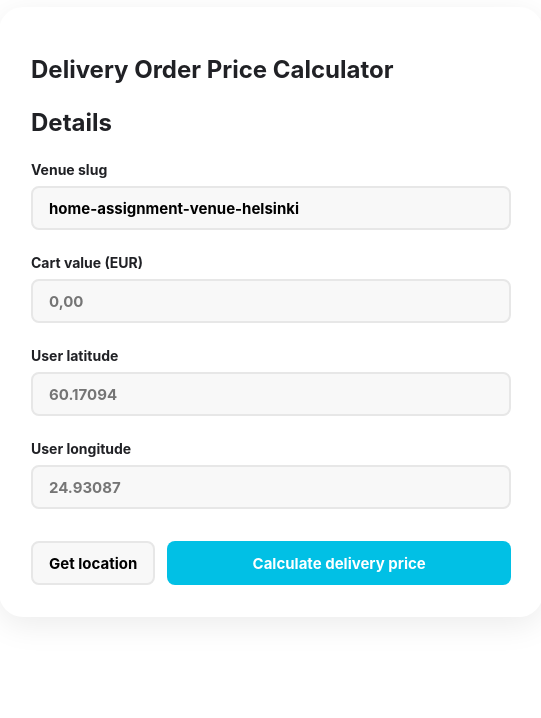
DeliveryCalculator › formats currency with comma separator
The width and height of the screenshot is (541, 718).
Type "10,00" into the field with test id "cartValue" at point(271, 301), box [31,279,511,323]
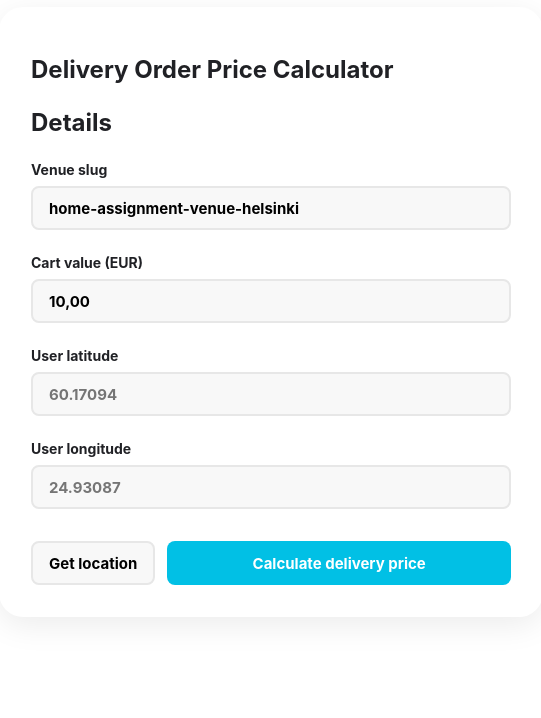
Type "60.1699" into the number field with test id "userLatitude" at point(271, 394), box [31,372,511,416]
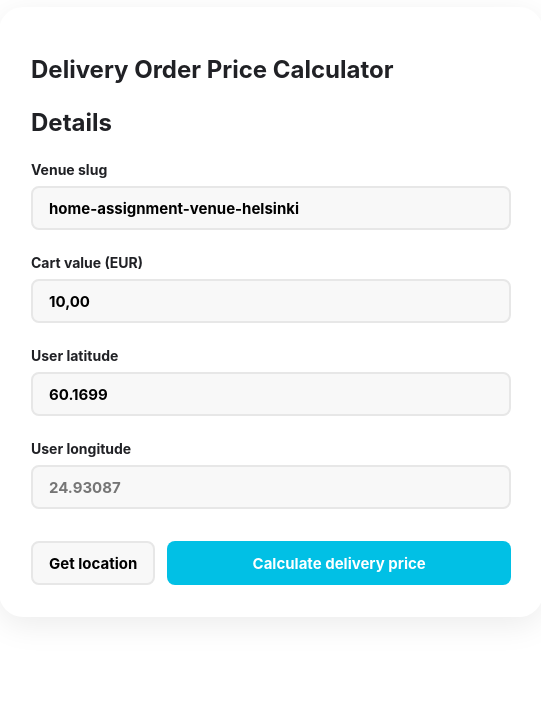
Type "24.9384" into the number field with test id "userLongitude" at point(271, 487), box [31,465,511,509]
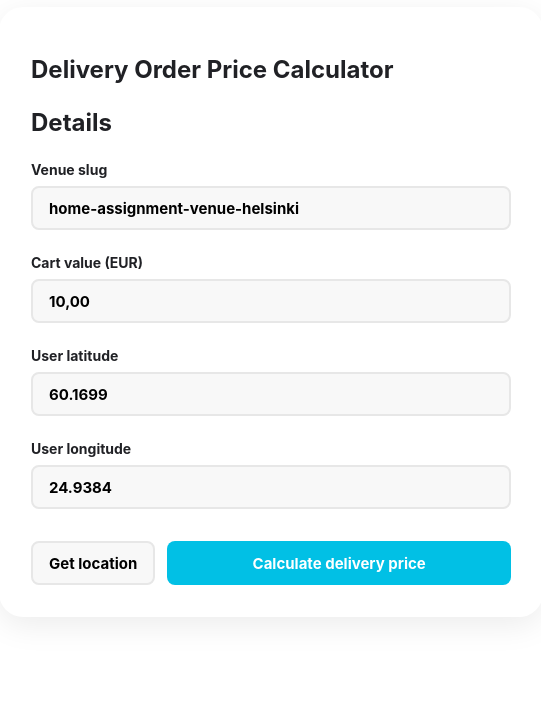
Click the button with test id "calculateDeliveryPrice" at point(339, 563), box [167,541,511,585]
(page scrolled)
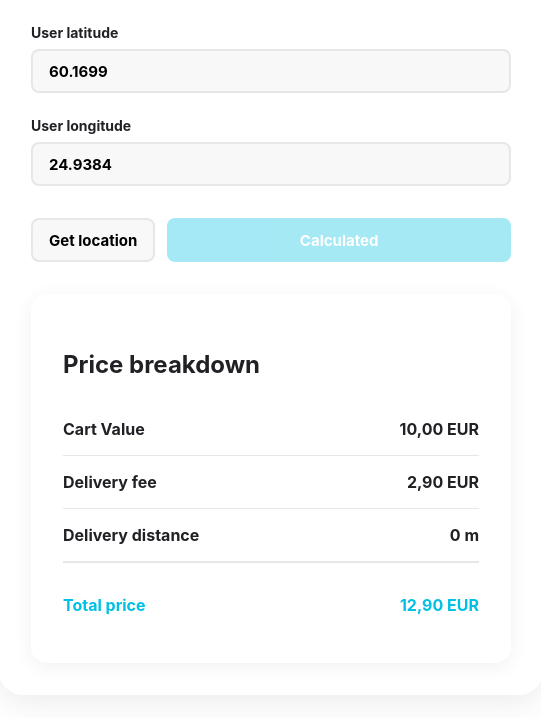
Expected: the text with test id "cart-value" reads "10,00 EUR", [400,419,479,439]
Expected: the text with test id "delivery-fee" reads "2,90 EUR", [407,472,479,492]
Expected: the text with test id "total-price" reads "12,90 EUR", [400,595,479,615]
